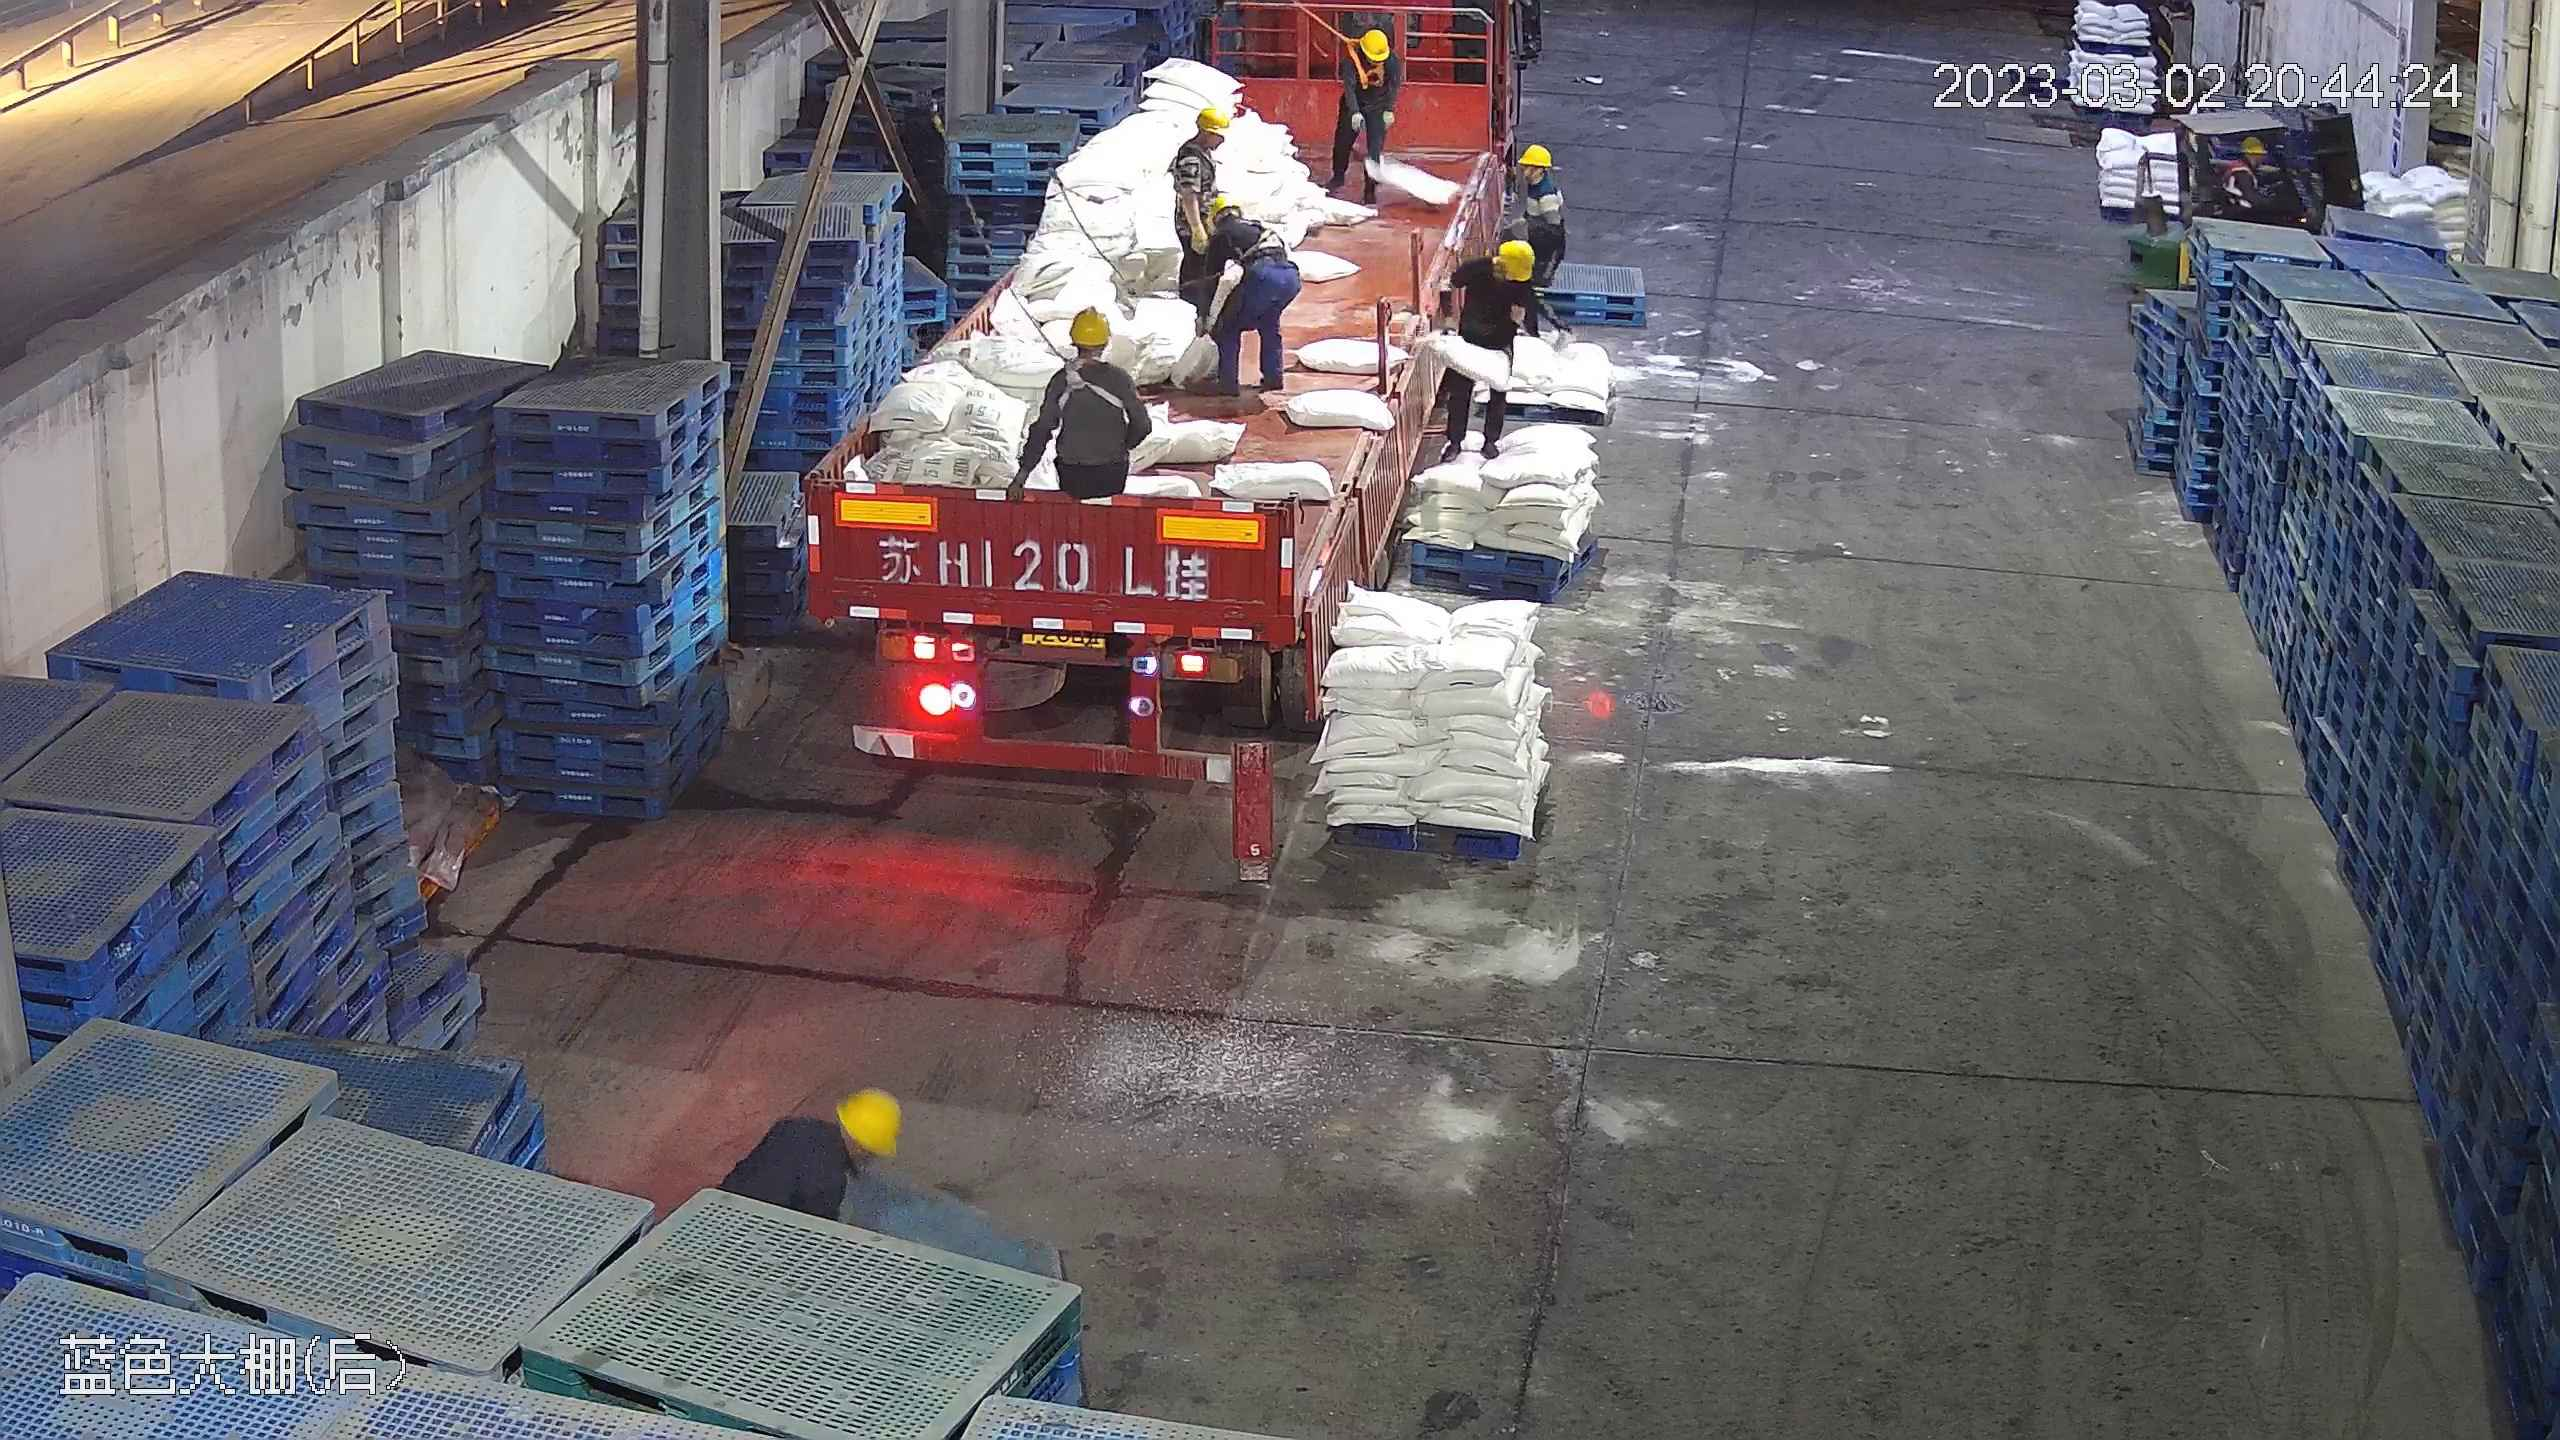belt: (1040, 336, 1132, 427), (1234, 219, 1292, 266), (1170, 140, 1217, 190), (1343, 38, 1389, 87)
head: (760, 1085, 902, 1193), (1046, 306, 1139, 404), (1458, 239, 1536, 319), (1190, 196, 1265, 257), (1168, 102, 1231, 173), (1506, 140, 1566, 208), (1339, 26, 1394, 78)
helmet: (763, 1084, 905, 1194), (836, 1084, 904, 1157), (1065, 305, 1113, 346), (1492, 239, 1534, 277), (1359, 27, 1392, 59), (1204, 197, 1242, 227), (1192, 103, 1229, 131), (1518, 143, 1552, 169), (2238, 133, 2267, 154)
people: (1017, 305, 1151, 502), (1469, 116, 1581, 337), (1188, 198, 1304, 402), (1439, 236, 1535, 465), (1162, 99, 1233, 316), (1329, 18, 1402, 207)
truck: (816, 20, 1478, 800)
